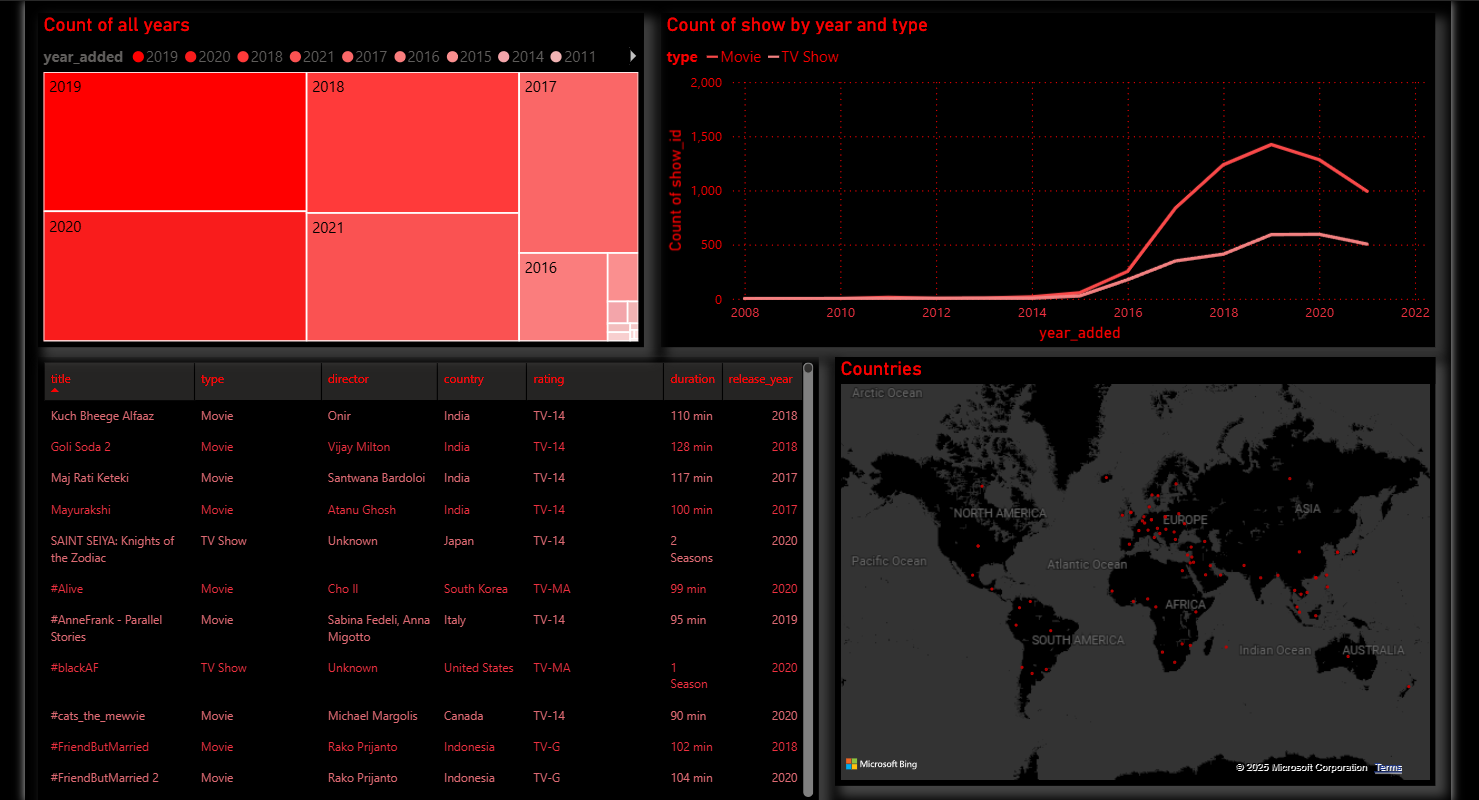

The dashboard page shown, as its layout file describes it:
{"tool":"powerbi","page":{"name":"Page 2","canvas":[1280,720],"ordinal":1},"visuals":[{"type":"tableEx","fields":{"Values":["netflix_cleaned_final.title","netflix_cleaned_final.type","netflix_cleaned_final.director","netflix_cleaned_final.country","netflix_cleaned_final.rating","netflix_cleaned_final.duration","netflix_cleaned_final.release_year"]},"box":[11.7,319.6,701.1,400.4],"z":0},{"type":"lineChart","title":"Count of show by year and type","fields":{"Category":["netflix_cleaned_final.year_added"],"Y":["netflix_cleaned_final.show_id"],"Series":["netflix_cleaned_final.type"]},"box":[571,10.8,694.9,299.9],"z":1000},{"type":"map","title":"Countries","fields":{"Category":["netflix_cleaned_final.country"]},"box":[727.2,319.6,538.7,385.1],"z":2000},{"type":"treemap","title":"Count of all years","fields":{"Values":["netflix_cleaned_final.show_id"],"Group":["netflix_cleaned_final.year_added"]},"box":[11.7,10.8,544,299.9],"z":3000}]}

Visuals, with their boxes in screenshot pixels (x1, y1, x2, y2):
tableEx - netflix_cleaned_final.title x netflix_cleaned_final.type: box=[21, 348, 819, 799]
"Count of show by year and type" lineChart: box=[657, 0, 1448, 338]
"Countries" map: box=[835, 348, 1448, 786]
"Count of all years" treemap: box=[21, 0, 640, 338]
